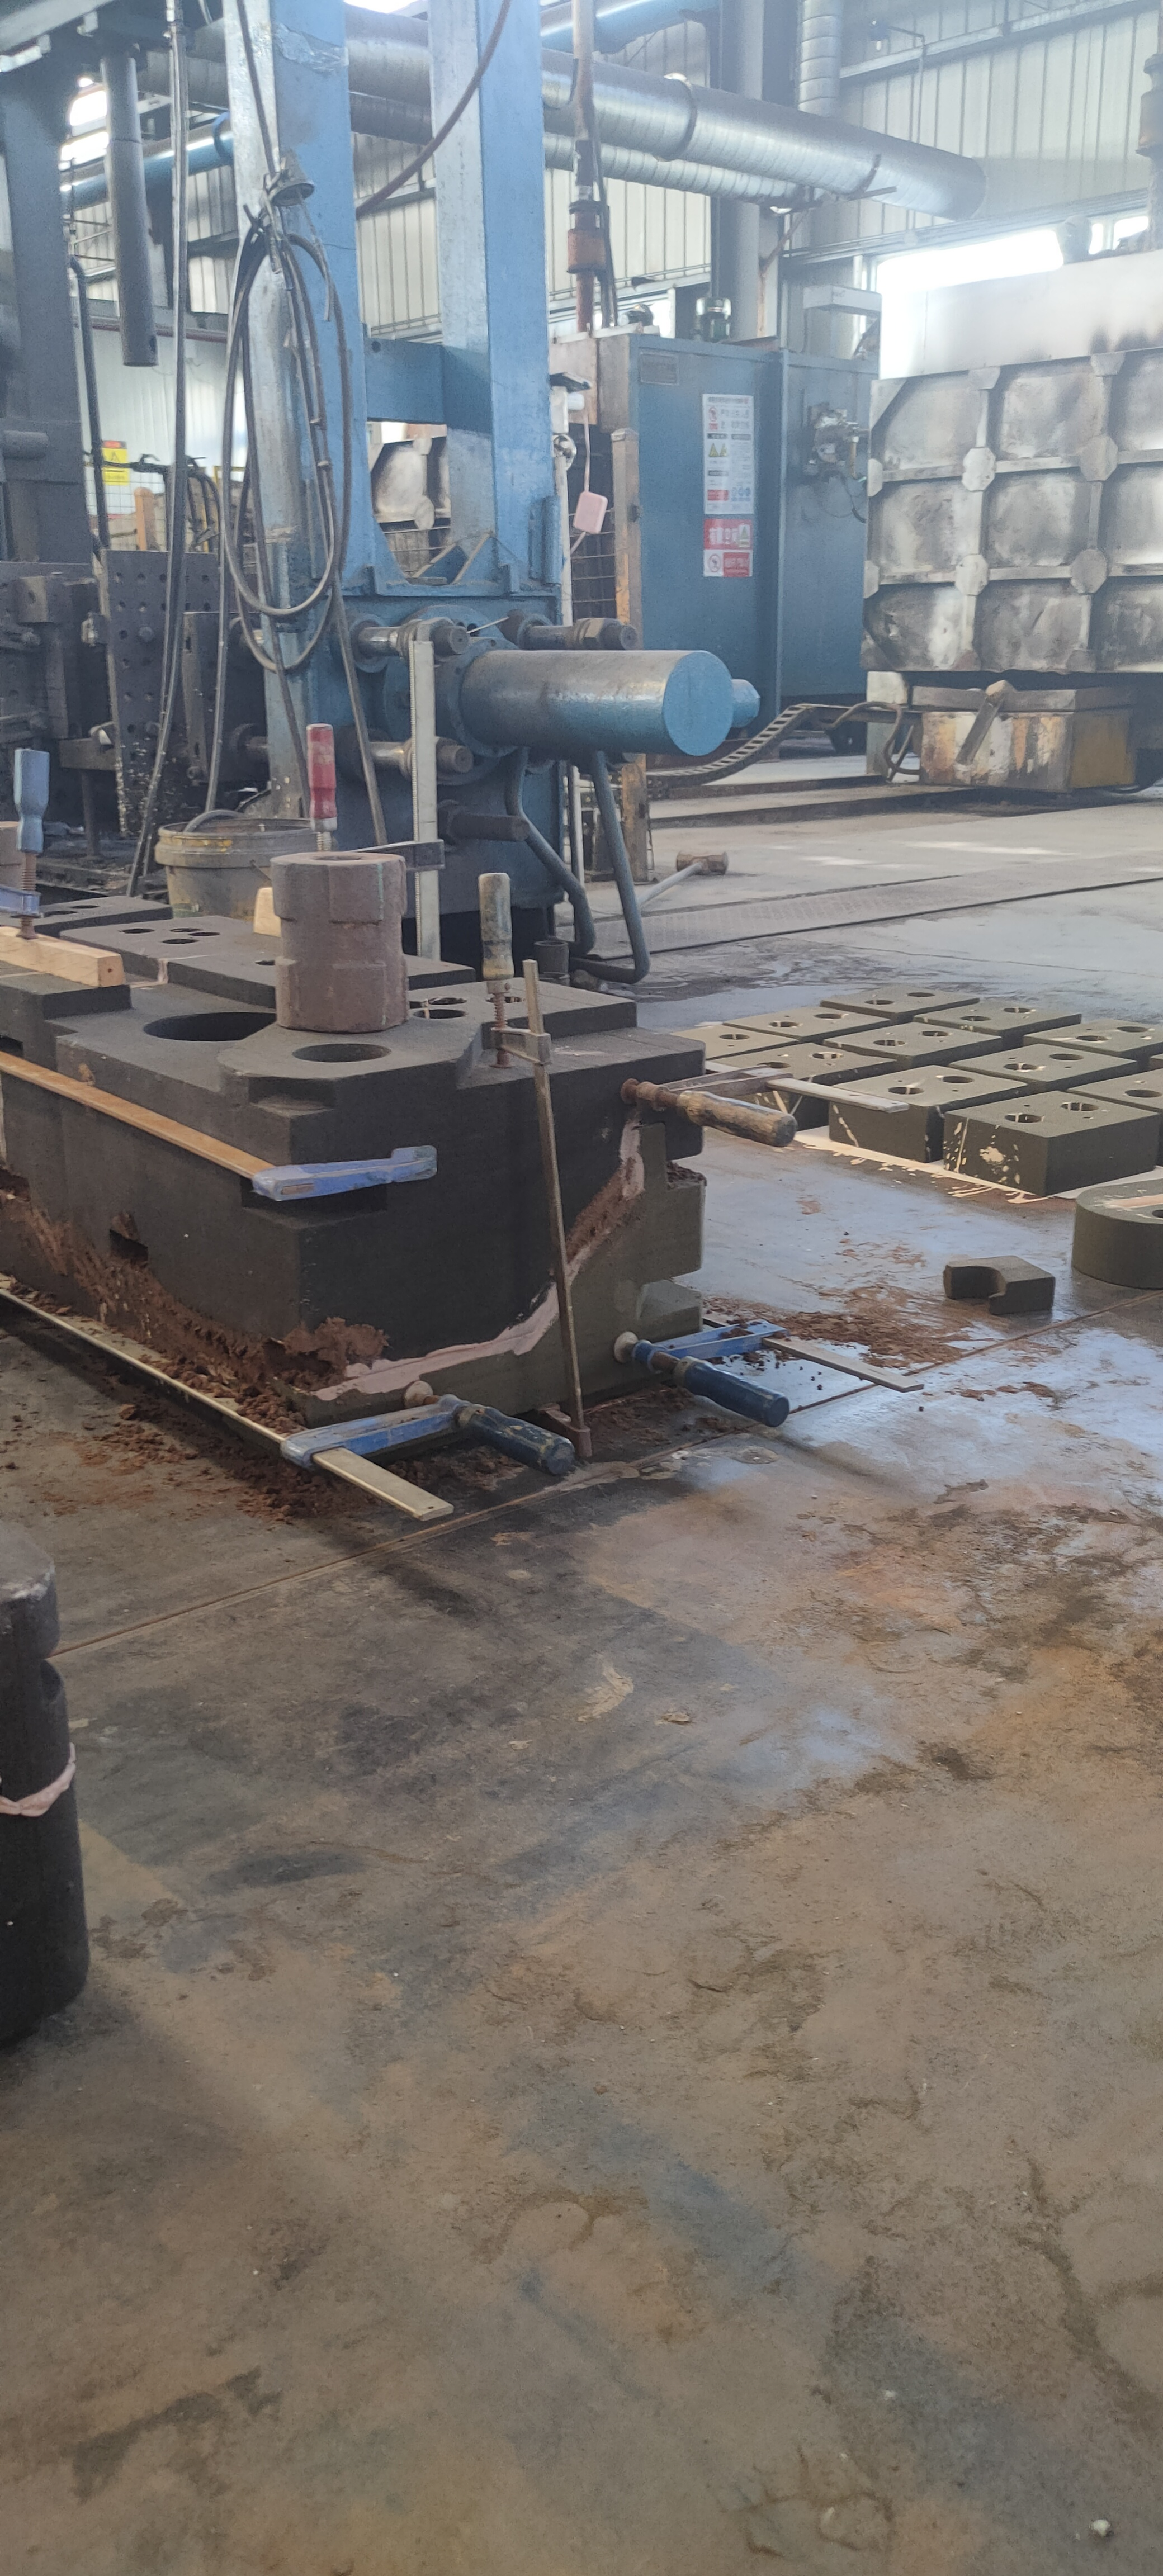pouring hole: (291, 1042, 393, 1063), (810, 1051, 844, 1063), (1061, 1102, 1099, 1112), (889, 1086, 925, 1096), (1005, 1114, 1041, 1124), (757, 1061, 790, 1071), (874, 1038, 907, 1048), (936, 1076, 974, 1084), (1125, 1089, 1163, 1097), (669, 1038, 700, 1048), (718, 1032, 749, 1042), (813, 1012, 844, 1022), (920, 1028, 949, 1038), (1002, 1005, 1032, 1015), (1050, 1053, 1084, 1061), (1004, 1063, 1038, 1071), (767, 1020, 800, 1028), (959, 1015, 992, 1023), (1117, 1025, 1148, 1033), (866, 997, 895, 1005), (907, 991, 935, 999), (1076, 1035, 1110, 1042)
